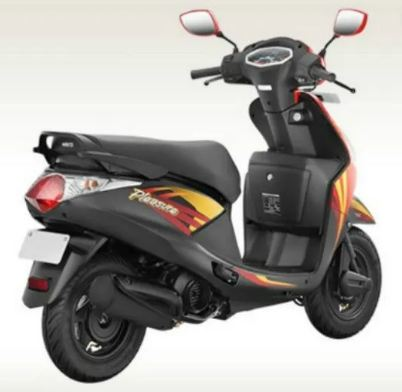bike: (21, 8, 383, 382)
